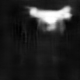plane: (26, 5, 73, 33)
